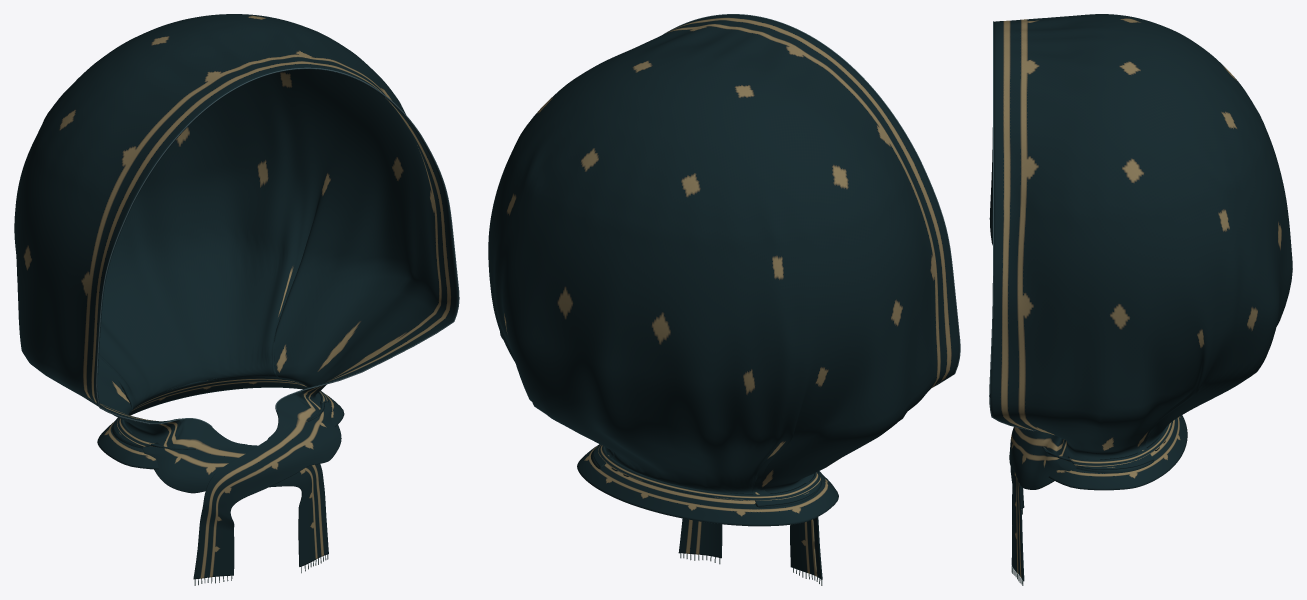
The model's file is Masculine-tshirt-pashmina241-headgear.glb.
The picture shows the model from 3 angles, left to right: view 1: azimuth 30°, elevation 25°; view 2: azimuth 150°, elevation 25°; view 3: azimuth 270°, elevation 25°; orthographic projection. The views are drawn at different scales.
Parts seen in each view (by area): view 1: 226 headgear / Headwear / continuous woven pashmina239, 226 headgear / Headwear / face edge239; view 2: 226 headgear / Headwear / continuous woven pashmina239, 226 headgear / Headwear / face edge239; view 3: 226 headgear / Headwear / continuous woven pashmina239, 226 headgear / Headwear / face edge239.
Part boxes in pixels (bbox=[...]): 226 headgear / Headwear / continuous woven pashmina239: bbox=[14, 14, 458, 579]; 226 headgear / Headwear / face edge239: bbox=[96, 67, 459, 426]; 226 headgear / Headwear / continuous woven pashmina239: bbox=[488, 14, 959, 579]; 226 headgear / Headwear / face edge239: bbox=[663, 14, 960, 387]; 226 headgear / Headwear / continuous woven pashmina239: bbox=[990, 14, 1292, 581]; 226 headgear / Headwear / face edge239: bbox=[989, 21, 1037, 431].
Size of the model in its own units: 1.03 by 1.35 by 0.7127.
3 materials, 1 textured.
